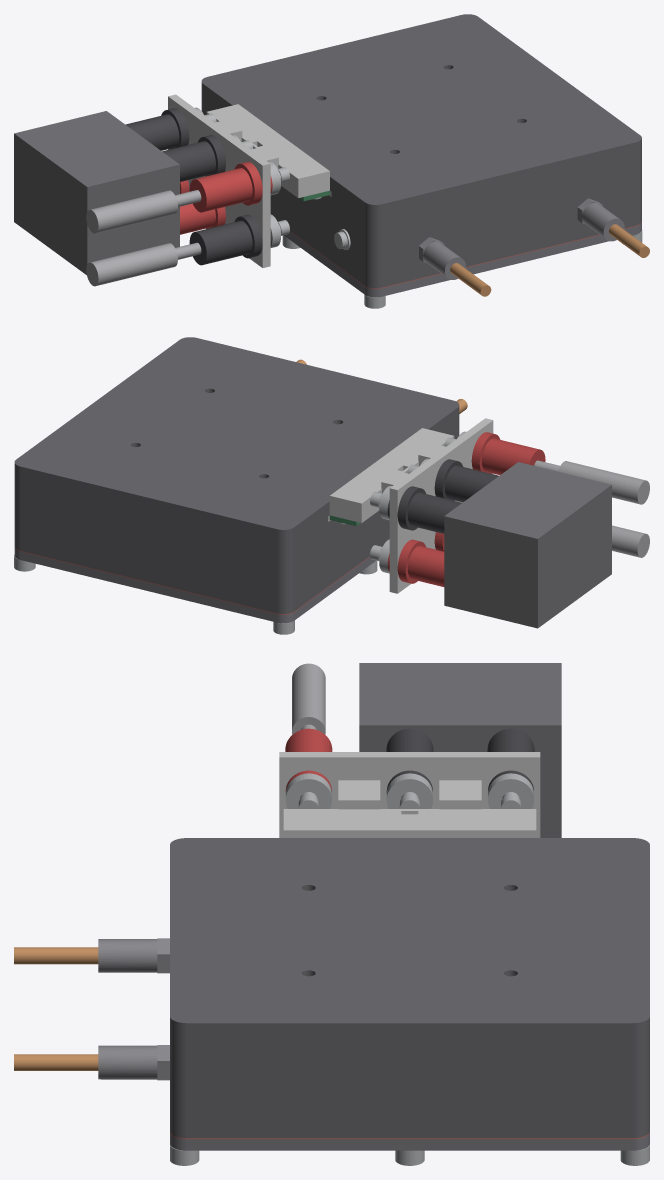
3 renders of one model, top to bottom at view 1: azimuth 30°, elevation 25°; view 2: azimuth 150°, elevation 25°; view 3: azimuth 270°, elevation 25°, orthographic. The views are drawn at different scales.
Visible parts, largest first — view 1: p000, p038, p002, p037, p120, p039, p040, p032, p027, p022, p012, p130 (+10 smaller); view 2: p000, p037, p002, p038, p120, p040, p032, p012, p007, p022, p039, p127 (+5 smaller); view 3: p000, p002, p037, p038, p120, p130, p128, p040, p129, p131, p127, p035 (+6 smaller).
Part boxes in pixels (box(x1,y1,x2,y2)): p000: box(201, 14, 641, 288); p038: box(50, 138, 179, 274); p002: box(168, 94, 329, 267); p037: box(14, 111, 142, 248); p120: box(284, 223, 641, 297); p039: box(86, 242, 201, 286); p040: box(86, 190, 201, 233); p032: box(189, 168, 252, 212); p027: box(189, 220, 252, 265); p022: box(162, 141, 215, 181); p012: box(125, 114, 179, 150); p130: box(577, 198, 624, 241); p000: box(14, 337, 459, 614); p037: box(444, 489, 574, 628); p002: box(329, 418, 493, 593); p038: box(482, 462, 611, 600); p120: box(14, 548, 375, 623); p040: box(534, 460, 649, 504); p032: box(482, 438, 545, 474); p012: box(408, 492, 461, 533); p007: box(408, 546, 444, 586); p022: box(445, 465, 498, 502); p039: box(612, 525, 649, 557); p127: box(14, 554, 377, 634); p000: box(170, 838, 649, 1137); p002: box(279, 752, 540, 837); p037: box(460, 663, 561, 837); p038: box(359, 663, 460, 751); p120: box(170, 1133, 649, 1150); p130: box(98, 1045, 169, 1080); p128: box(98, 938, 169, 973); p040: box(292, 663, 325, 734); p129: box(14, 947, 98, 964); p131: box(14, 1054, 98, 1070); p127: box(170, 1145, 649, 1165); p035: box(285, 773, 331, 808).
Bounding box in the file's own units: 190 × 47.85 × 151.
